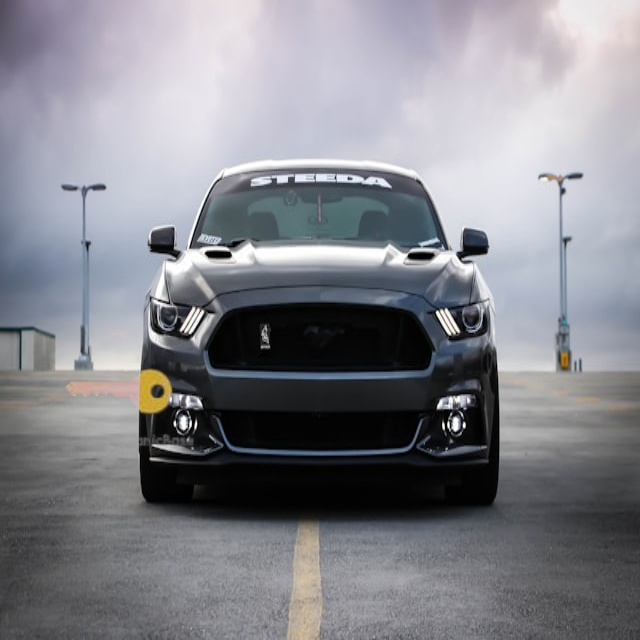symbol: (35, 289, 200, 454), (456, 124, 604, 272)
